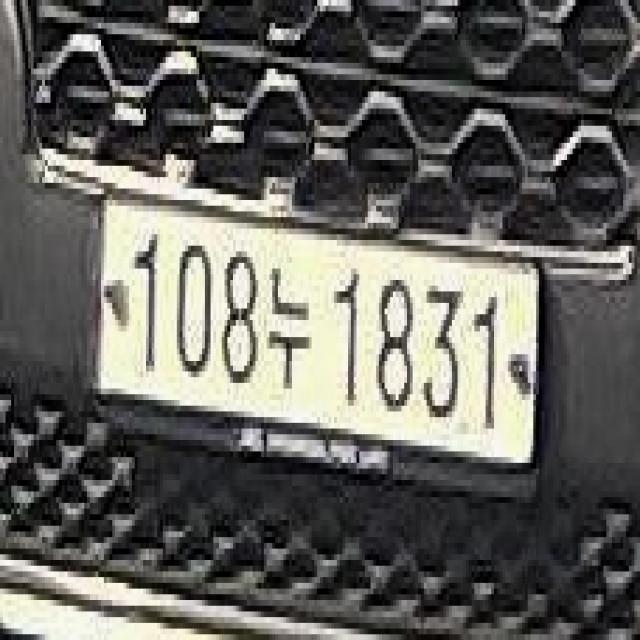illegal_plate: (96, 192, 547, 504)
